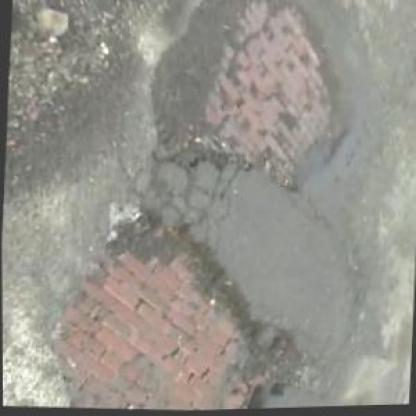pothole: (143, 0, 351, 204)
